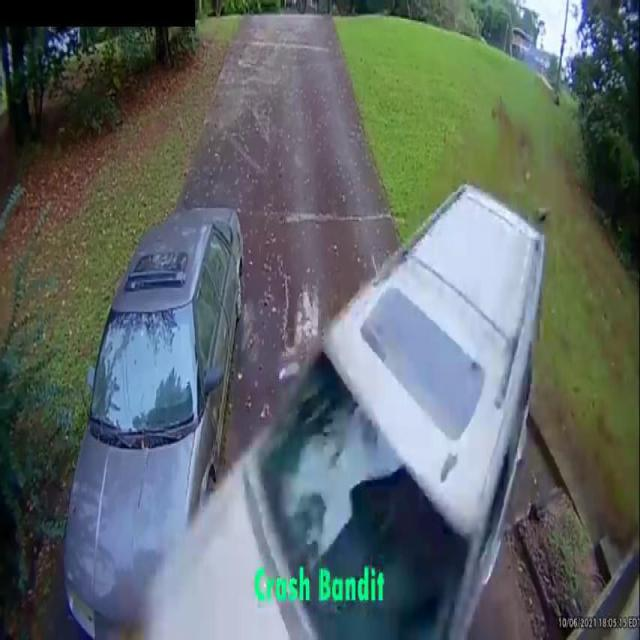moderate: (52, 173, 551, 640)
